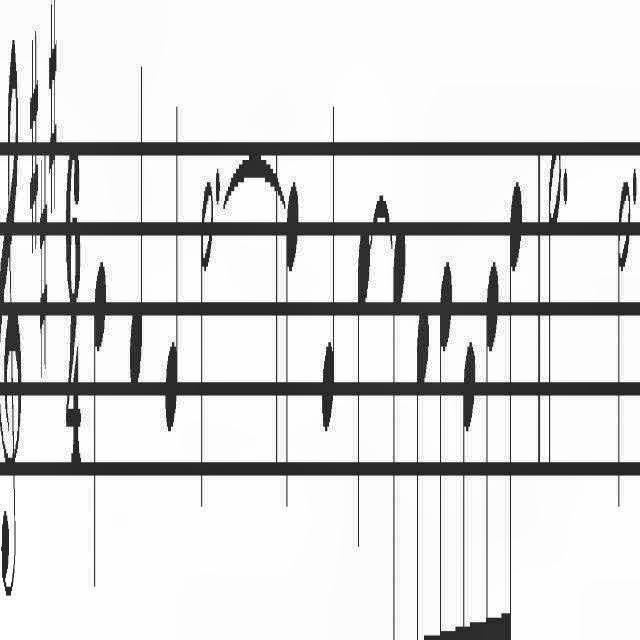Bass-clef: (0, 36, 22, 596)
Diez: (47, 0, 56, 212), (30, 22, 38, 260), (40, 158, 49, 366)
Eighth-note: (502, 168, 522, 640), (389, 212, 407, 640), (481, 248, 499, 640), (435, 252, 453, 640), (413, 284, 431, 640), (460, 332, 476, 640)
Half-note: (615, 170, 631, 522), (198, 176, 214, 520), (547, 134, 561, 482)
Quarter-note: (164, 102, 180, 440), (284, 182, 300, 520), (322, 93, 336, 443), (93, 256, 107, 600), (356, 221, 370, 559), (129, 61, 143, 396)
